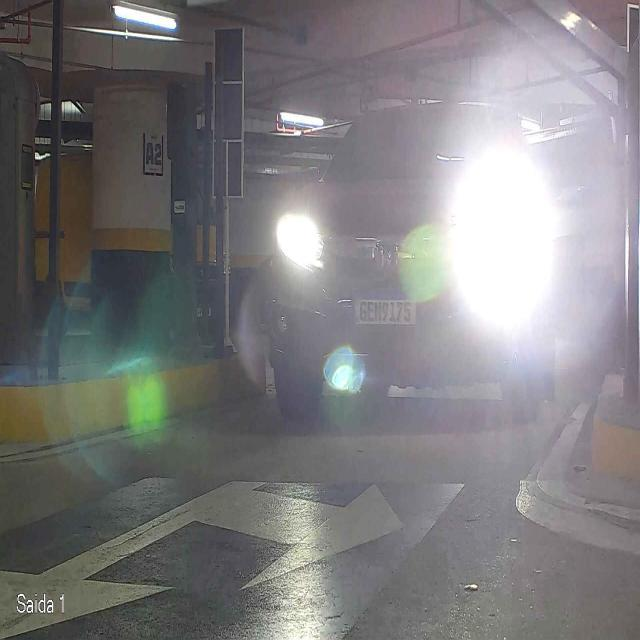mercosul_plate: (353, 291, 417, 327)
